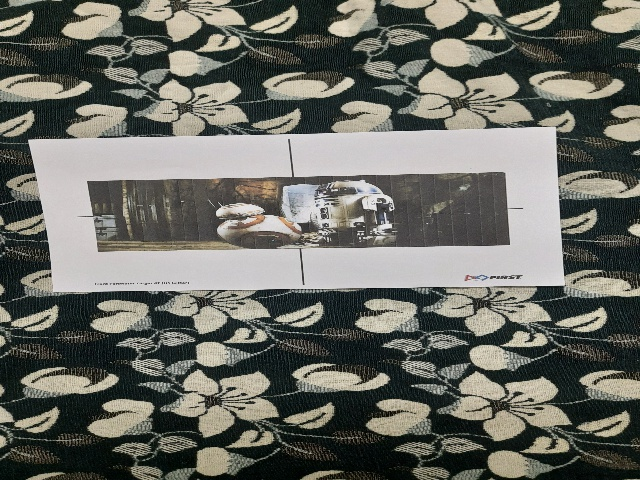fpt2: (48, 157, 557, 285)
